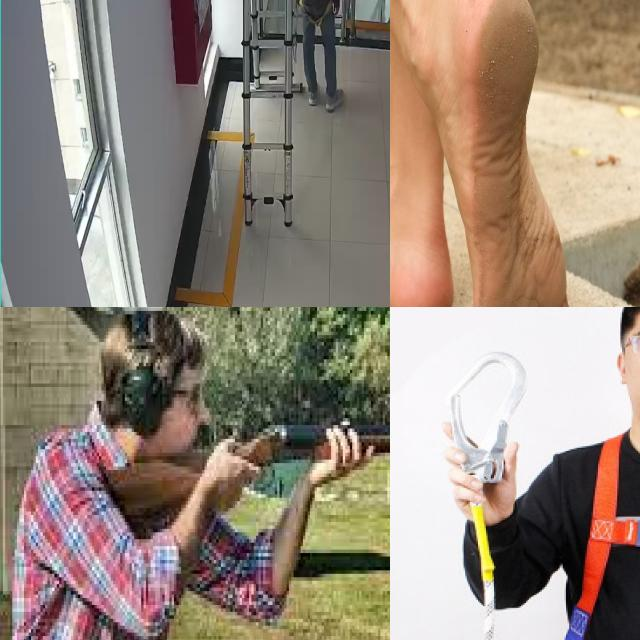Barefoots: (465, 0, 571, 307), (390, 206, 453, 307)
Ear-protection: (105, 312, 176, 444)
Harness: (559, 435, 640, 640)
